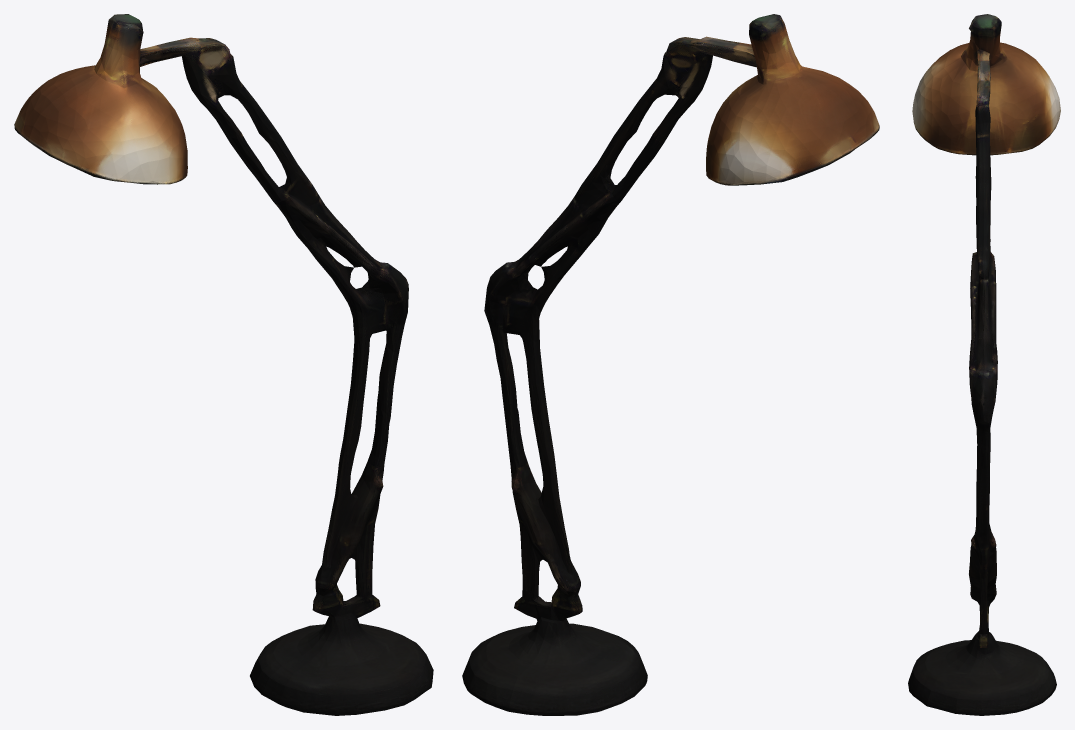
File: pred.glb
3 views of the same model, side by side, from view 1: azimuth 30°, elevation 25°; view 2: azimuth 150°, elevation 25°; view 3: azimuth 270°, elevation 25° (orthographic). The views are drawn at different scales.
Parts seen in each view (by area): view 1: world; view 2: world; view 3: world.
Boxes of the visible parts, x1=… form: world: x1=14, y1=14, x2=433, y2=715; world: x1=462, y1=14, x2=879, y2=715; world: x1=908, y1=14, x2=1060, y2=715.
Bounding box in the file's own units: 0.5733 × 0.9959 × 0.2371.
Materials: 1 (1 with a texture image).
